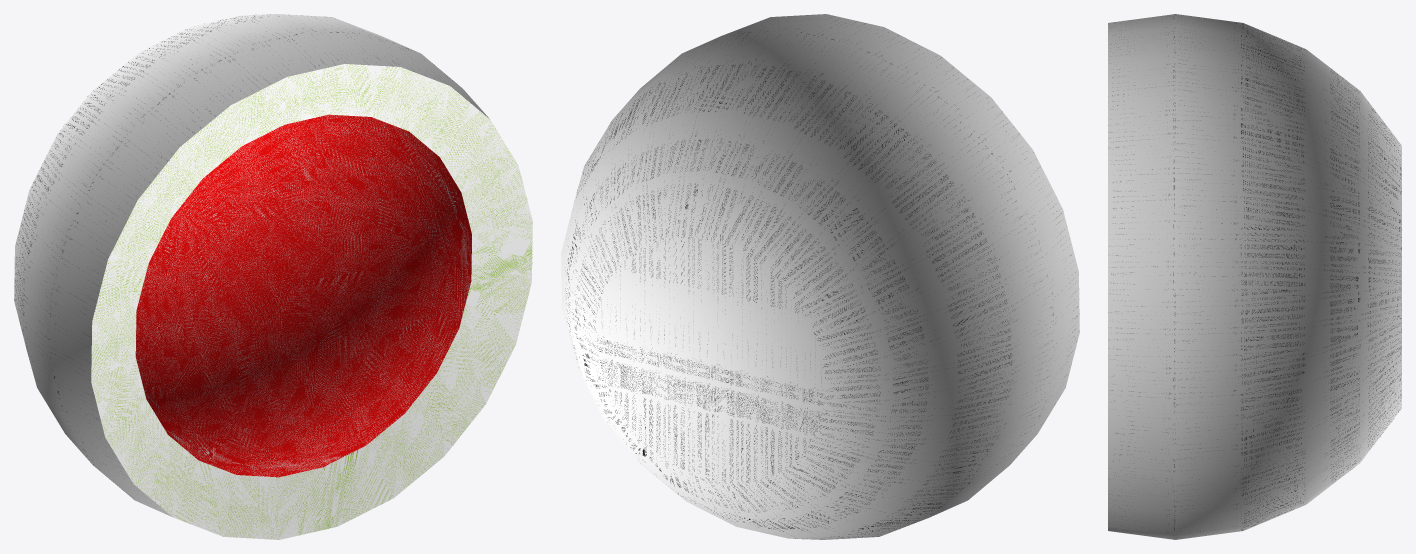
Rendered from model_scale.obj.
3 views of the same model, side by side, from view 1: azimuth 30°, elevation 25°; view 2: azimuth 150°, elevation 25°; view 3: azimuth 270°, elevation 25° (orthographic).
Visible parts, largest first — view 1: mesh1_mesh1-geometry; view 2: mesh1_mesh1-geometry; view 3: mesh1_mesh1-geometry.
Part boxes in pixels (x1,y1,x2,y2): mesh1_mesh1-geometry: (14, 14, 532, 539); mesh1_mesh1-geometry: (561, 14, 1079, 539); mesh1_mesh1-geometry: (1108, 14, 1401, 539).
Bounding box in the file's own units: 0.1591 × 0.1591 × 0.0893.
